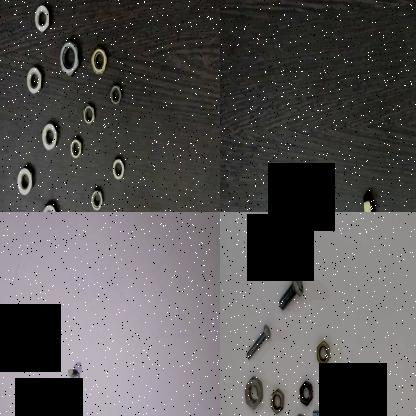Bolts: (246, 320, 274, 362), (278, 270, 306, 312), (341, 371, 365, 416), (68, 366, 84, 416), (312, 405, 344, 416)
NUTS: (241, 367, 265, 416), (57, 35, 82, 78), (23, 60, 45, 100), (38, 116, 58, 154), (88, 42, 108, 80), (267, 380, 287, 416), (294, 376, 316, 408), (34, 0, 52, 38), (14, 166, 34, 197), (314, 338, 334, 367), (110, 155, 127, 181), (68, 135, 86, 159), (81, 102, 97, 128), (360, 191, 378, 212), (88, 187, 103, 212), (110, 78, 122, 109), (39, 197, 59, 212)
